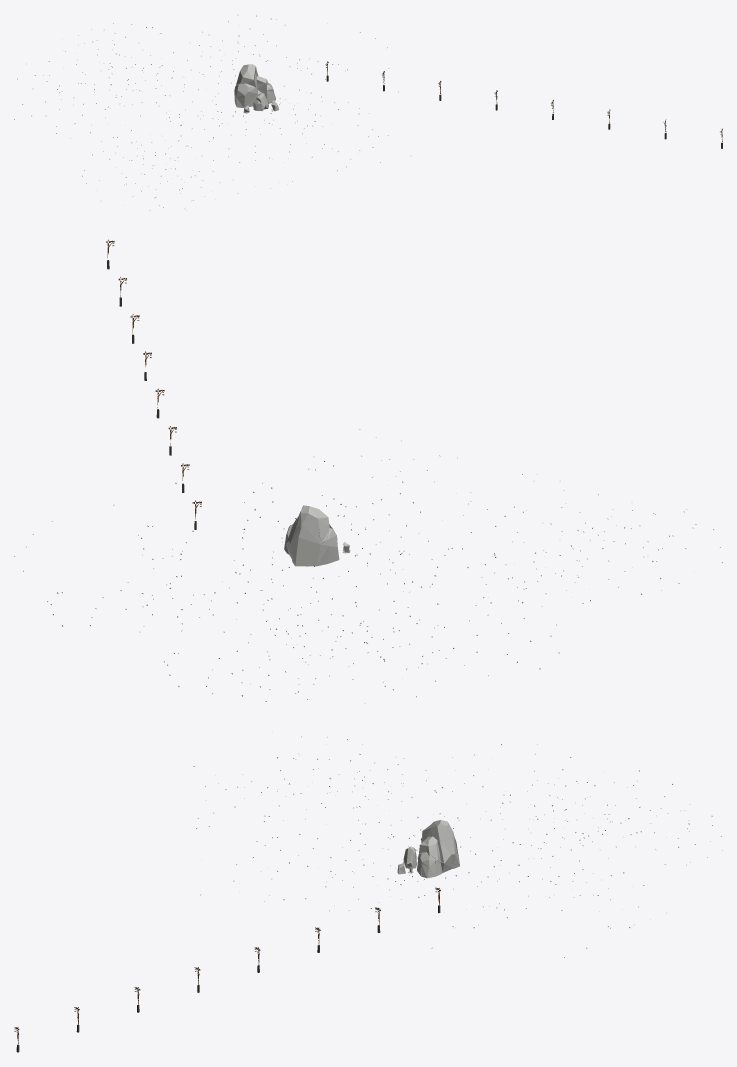
Rendered from chunk_0_2_lod2.glb.
3 renders of one model, top to bottom at view 1: azimuth 30°, elevation 25°; view 2: azimuth 150°, elevation 25°; view 3: azimuth 270°, elevation 25°, orthographic. The views are drawn at different scales.
Parts seen in each view (by area): view 1: Batched_Chunk_0_2.001; view 2: Batched_Chunk_0_2.001; view 3: Batched_Chunk_0_2.001.
Boxes of the visible parts, x1=… form: Batched_Chunk_0_2.001: x1=14, y1=15, x2=722, y2=210; Batched_Chunk_0_2.001: x1=14, y1=239, x2=722, y2=701; Batched_Chunk_0_2.001: x1=14, y1=736, x2=722, y2=1052.
Bounding box in the file's own units: 110 × 7.39 × 103.
